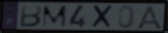0: (117, 5, 137, 30)
4: (68, 5, 89, 29)
A: (135, 5, 164, 31)
B: (18, 4, 43, 28)
M: (41, 4, 68, 28)
X: (91, 5, 114, 29)
